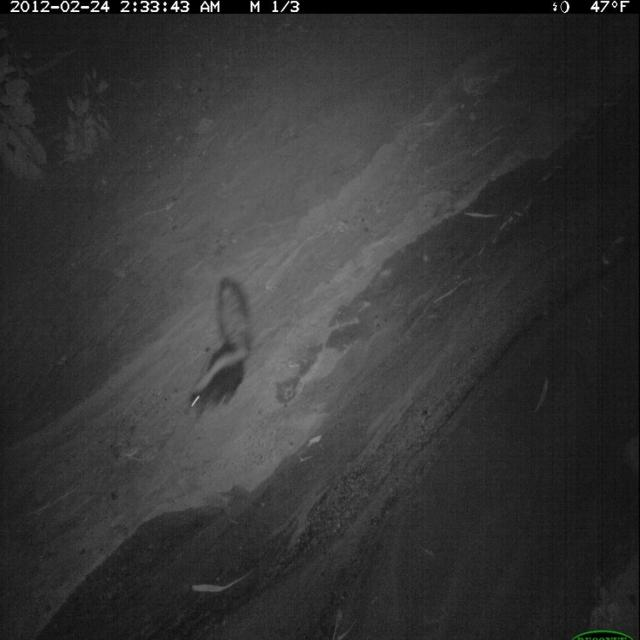skunk: (189, 277, 258, 425)
